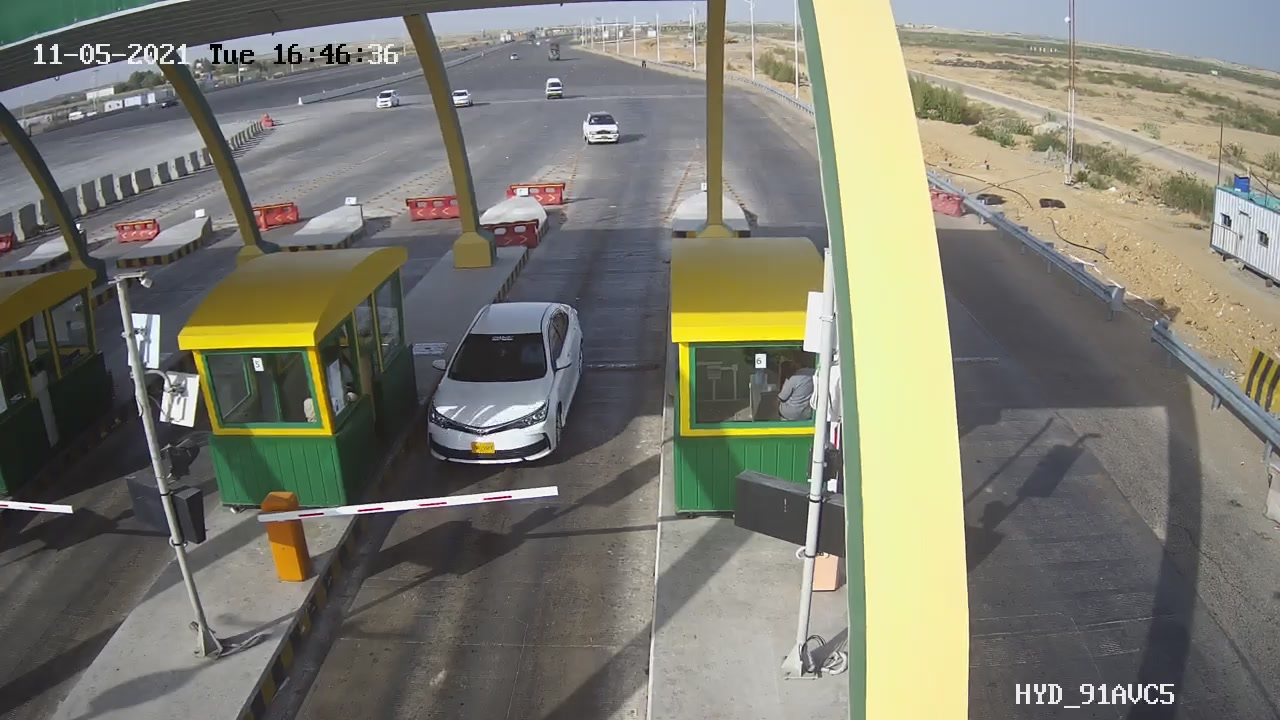F1: (402, 280, 605, 482)
